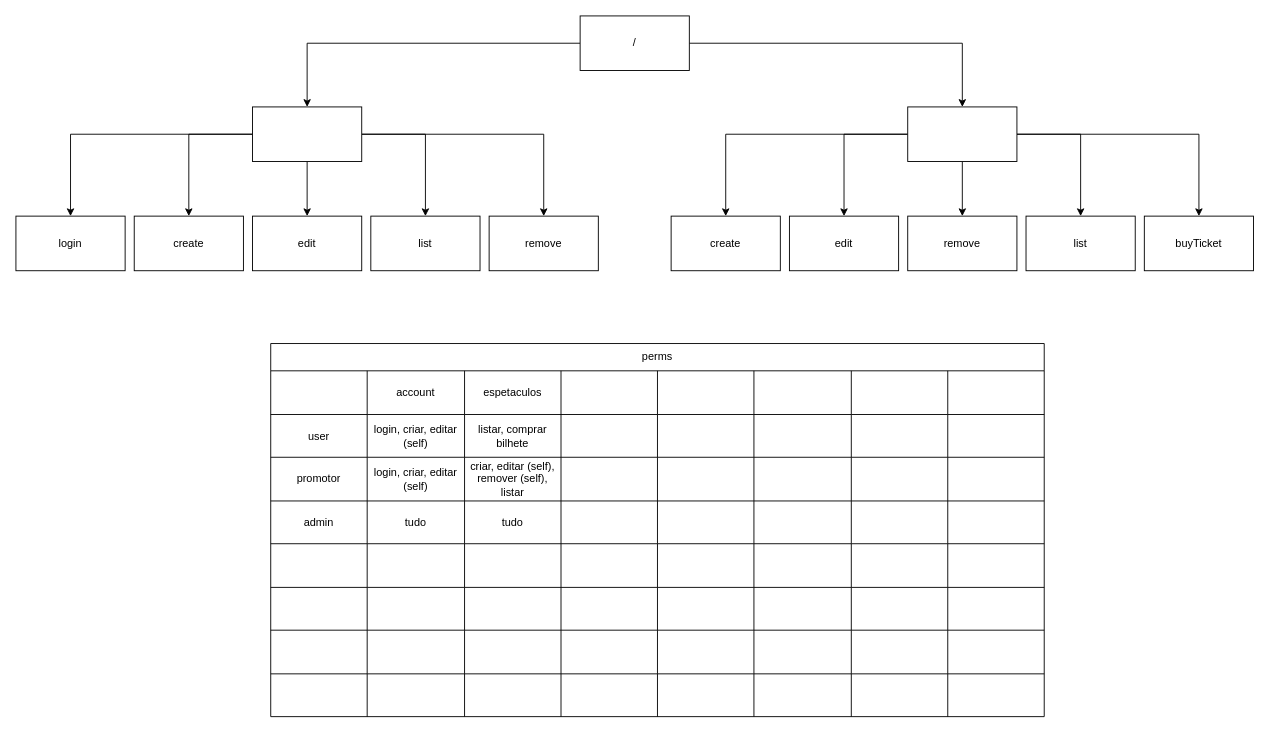
The diagram is 1269 pixels wide and 733 high, and some of its shapes have lost their labels. The shapes that lost their labels are listed below. From the top down, each one's centre as x and y in pixels, then its label:
[307,134]: accounts
[962,134]: shows
